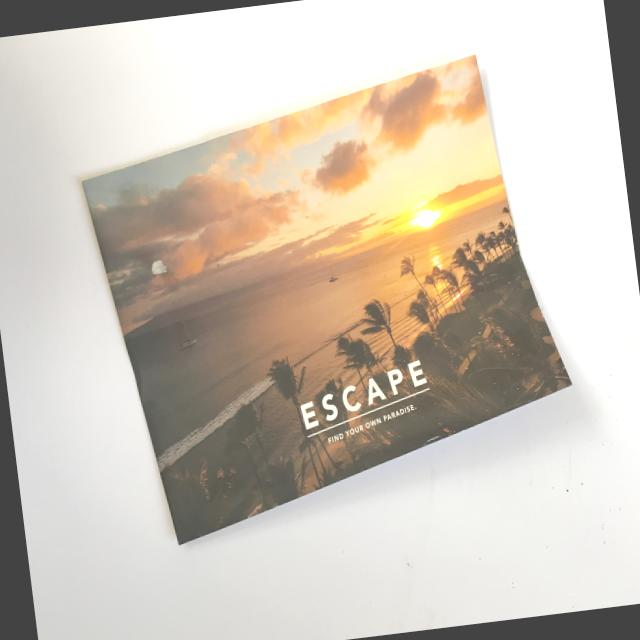Paper: (65, 44, 588, 560)
